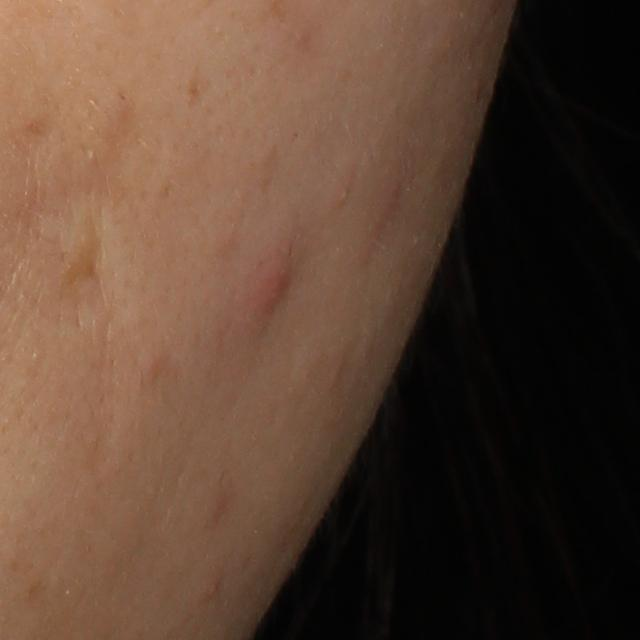papule: (239, 242, 301, 343), (202, 579, 221, 600)
